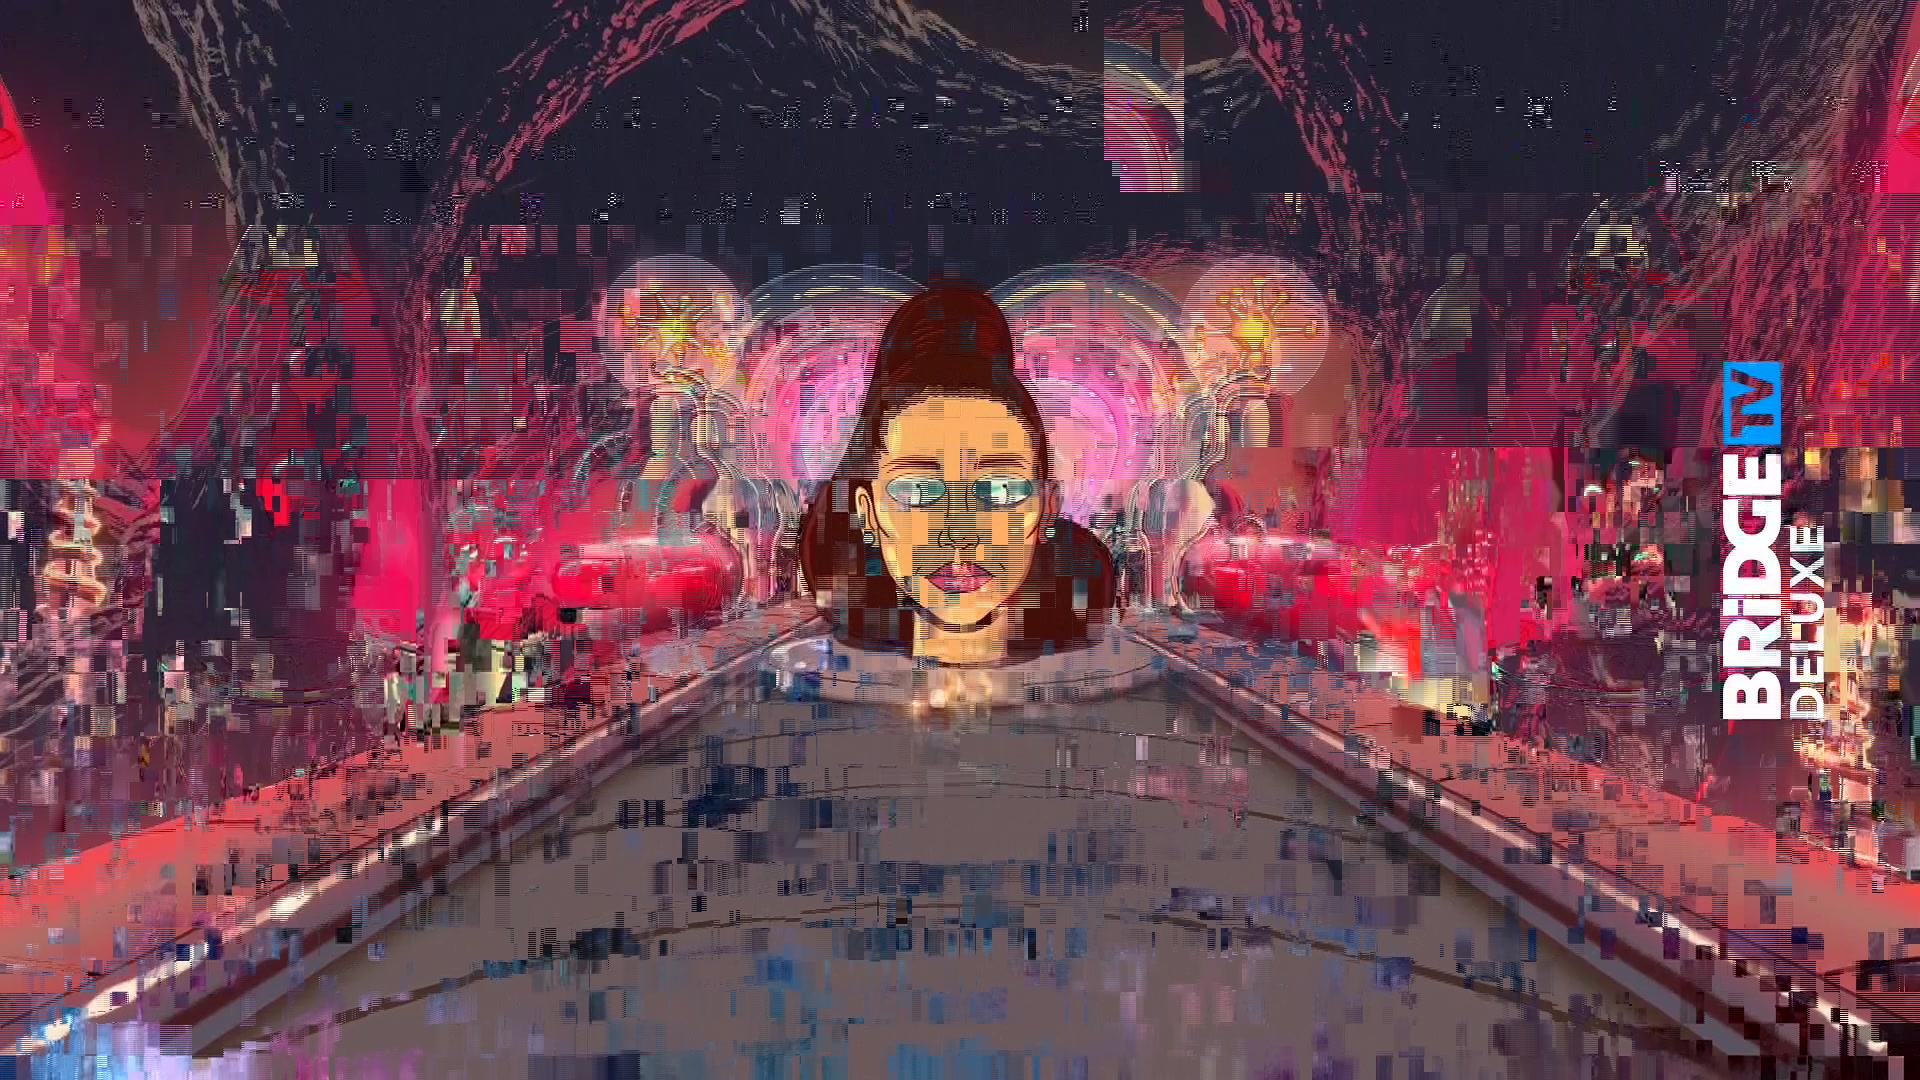Bridge_TV_Deluxe: (1718, 355, 1832, 727)
